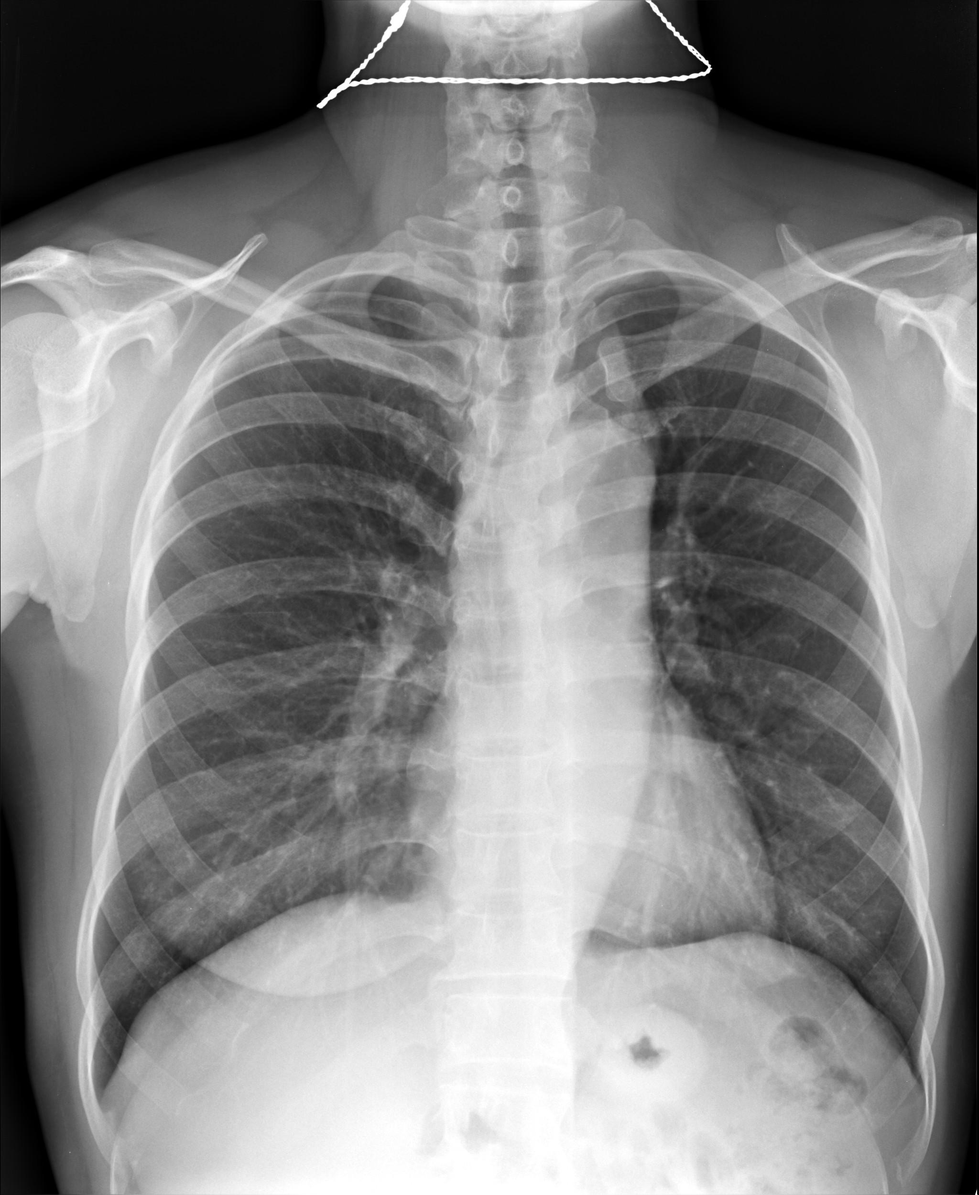Aortic enlargement: (521, 411, 659, 553)
Pleural thickening: (567, 272, 663, 298)
